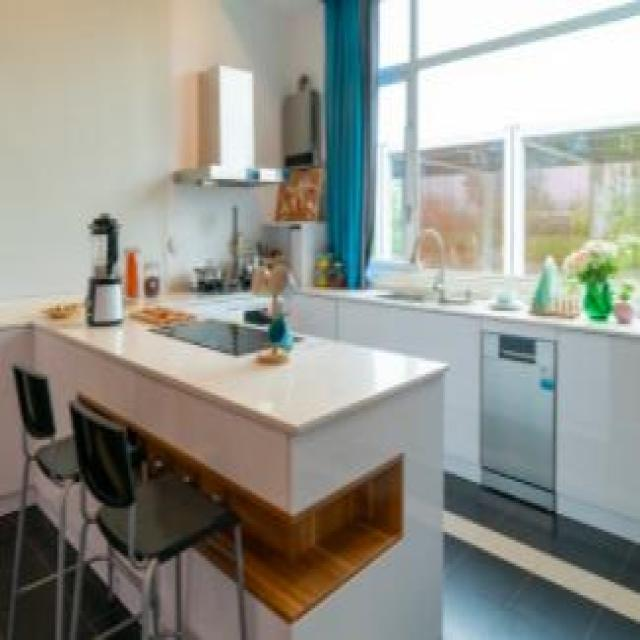dishwasher: (480, 327, 558, 508)
